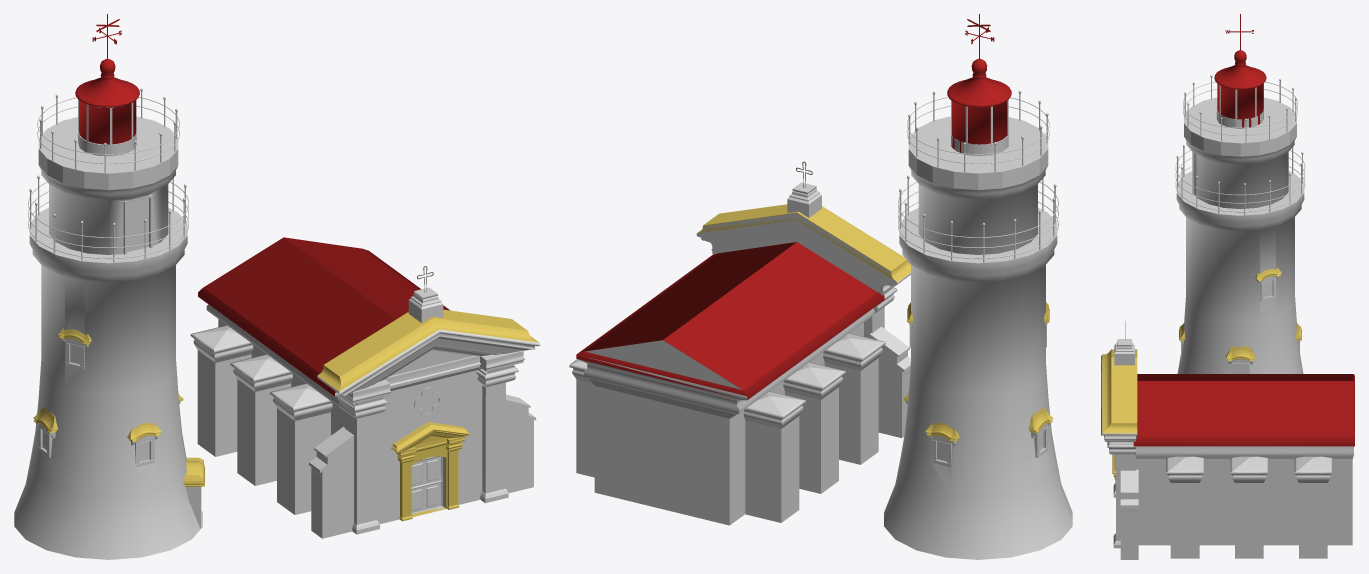
File: guiaLighthouse.obj
The picture shows the model from 3 angles, left to right: view 1: azimuth 30°, elevation 25°; view 2: azimuth 150°, elevation 25°; view 3: azimuth 270°, elevation 25°; orthographic projection. The views are drawn at different scales.
Visible parts, largest first — view 1: Cylinder001, L1_main014, L1_main, Cylinder002, L1_main005, L1_main015, L1_main006, L1_main010, L1_main009, L1_main002, Sphere001, L1_main003 (+6 smaller); view 2: Cylinder001, L1_main014, L1_main008, Cylinder002, L1_main010, L1_main002, L1_main006, L1_main009, L1_main015, Sphere001, L1_main005, L1_main013 (+3 smaller); view 3: Cylinder001, L1_main014, L1_main008, Cylinder002, L1_main011, L1_main012, L1_main013, L1_main015, Sphere001, L1_main005, L1_main, Box001 (+3 smaller).
Part boxes in pixels (x1=…): Cylinder001: x1=14, y1=208, x2=202, y2=559; L1_main014: x1=198, y1=237, x2=450, y2=396; L1_main: x1=337, y1=350, x2=524, y2=534; Cylinder002: x1=38, y1=116, x2=178, y2=254; L1_main005: x1=309, y1=394, x2=536, y2=538; L1_main015: x1=317, y1=309, x2=538, y2=391; L1_main006: x1=270, y1=383, x2=332, y2=514; L1_main010: x1=190, y1=325, x2=253, y2=456; L1_main009: x1=230, y1=354, x2=292, y2=485; L1_main002: x1=317, y1=329, x2=540, y2=395; Sphere001: x1=75, y1=58, x2=139, y2=144; L1_main003: x1=396, y1=436, x2=464, y2=521; Cylinder001: x1=884, y1=208, x2=1072, y2=559; L1_main014: x1=576, y1=242, x2=884, y2=399; L1_main008: x1=577, y1=302, x2=881, y2=525; Cylinder002: x1=908, y1=116, x2=1048, y2=254; L1_main010: x1=743, y1=391, x2=805, y2=522; L1_main002: x1=696, y1=213, x2=910, y2=292; L1_main006: x1=823, y1=333, x2=885, y2=464; L1_main009: x1=783, y1=362, x2=845, y2=493; L1_main015: x1=697, y1=204, x2=910, y2=282; Sphere001: x1=947, y1=58, x2=1011, y2=152; L1_main005: x1=869, y1=326, x2=910, y2=437; L1_main013: x1=569, y1=359, x2=594, y2=477; Cylinder001: x1=1176, y1=171, x2=1304, y2=373; L1_main014: x1=1133, y1=374, x2=1354, y2=446; L1_main008: x1=1134, y1=446, x2=1354, y2=545; Cylinder002: x1=1184, y1=97, x2=1296, y2=208; L1_main011: x1=1166, y1=456, x2=1203, y2=558; L1_main012: x1=1230, y1=456, x2=1267, y2=558; L1_main013: x1=1294, y1=456, x2=1331, y2=558; L1_main015: x1=1102, y1=349, x2=1137, y2=433; Sphere001: x1=1214, y1=50, x2=1266, y2=127; L1_main005: x1=1120, y1=469, x2=1138, y2=559; L1_main: x1=1104, y1=435, x2=1135, y2=548; Box001: x1=1216, y1=83, x2=1263, y2=128.
Size of the model in its own units: 250 by 277 by 156.
